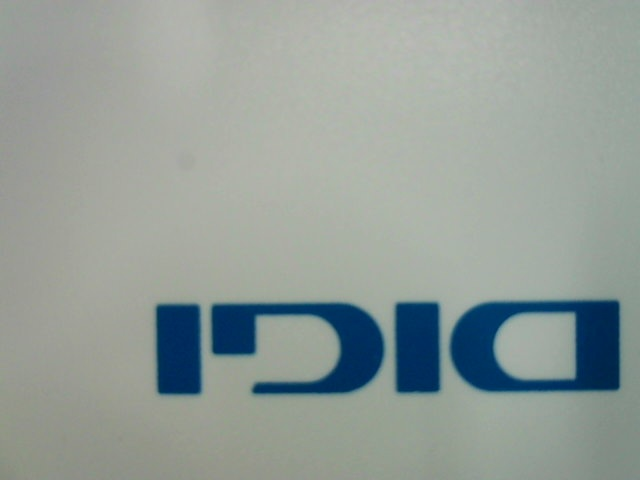BL_DIGI: (138, 287, 624, 401)
